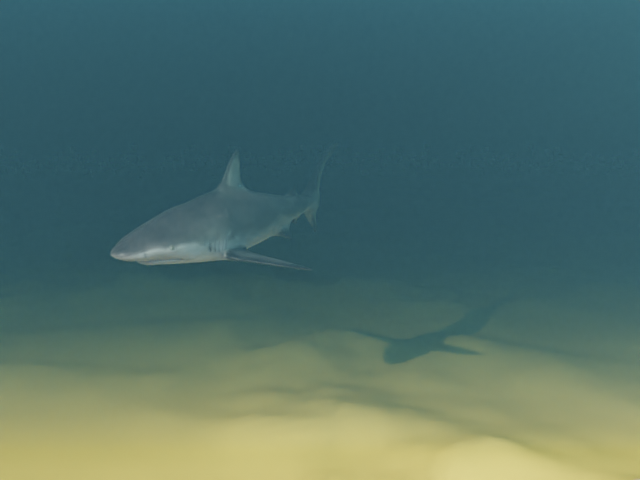Carribean Shark.001: (110, 142, 337, 270)
